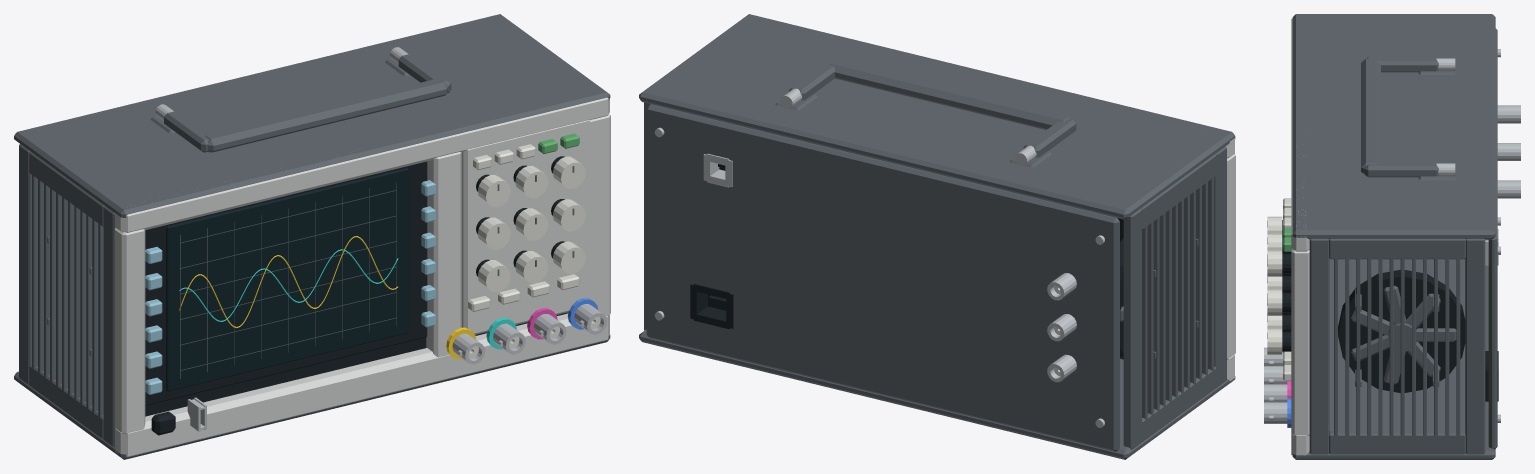
File: A-NEW-20261026-OSCILLOSCOPE-001_LOD2_R5.glb
3 views of the same model, side by side, from view 1: azimuth 30°, elevation 25°; view 2: azimuth 150°, elevation 25°; view 3: azimuth 270°, elevation 25° (orthographic). The views are drawn at different scales.
Parts seen in each view (by area): view 1: case roof, screen glass surface, front bottom rail, control face, front top rail, screen well floor, front vertical bezel, front vertical bezel.002, front vertical bezel.001, folded handle grip, lower bezel cavity closure, side grille end frame.001 (+32 smaller); view 2: rear panel, case roof, side grille end frame.001, folded handle grip, base floor, side grille end frame, front vertical bezel, side grille edge frame.001, side grille edge frame, side ventilation rib.010, side ventilation rib.008, side ventilation rib (+12 smaller); view 3: case roof, base floor, fan shroud backing.001, side grille end frame.003, side grille end frame.002, front vertical bezel.001, side grille edge frame.002, side grille edge frame.003, rear panel, folded handle grip, folded handle arm.001, folded handle arm (+33 smaller).
Part boxes in pixels (left/top/right/bottom): case roof: left=14, top=14, right=610, bottom=217; screen glass surface: left=166, top=168, right=408, bottom=391; front bottom rail: left=115, top=313, right=609, bottom=457; control face: left=461, top=120, right=590, bottom=334; front top rail: left=115, top=97, right=609, bottom=232; screen well floor: left=145, top=161, right=427, bottom=405; front vertical bezel: left=114, top=228, right=145, bottom=433; front vertical bezel.002: left=426, top=152, right=461, bottom=357; front vertical bezel.001: left=567, top=114, right=610, bottom=316; folded handle grip: left=205, top=78, right=448, bottom=152; lower bezel cavity closure: left=145, top=312, right=567, bottom=416; side grille end frame.001: left=19, top=144, right=31, bottom=384; rear panel: left=646, top=104, right=1119, bottom=451; case roof: left=639, top=14, right=1235, bottom=219; side grille end frame.001: left=1123, top=208, right=1141, bottom=449; folded handle grip: left=830, top=60, right=1070, bottom=129; base floor: left=639, top=329, right=1235, bottom=459; side grille end frame: left=1214, top=146, right=1226, bottom=387; front vertical bezel: left=1227, top=154, right=1235, bottom=359; side grille edge frame.001: left=1141, top=154, right=1216, bottom=229; side grille edge frame: left=1142, top=366, right=1216, bottom=441; side ventilation rib.010: left=1147, top=219, right=1153, bottom=417; side ventilation rib.008: left=1159, top=211, right=1165, bottom=408; side ventilation rib: left=1208, top=177, right=1214, bottom=370; case roof: left=1292, top=14, right=1495, bottom=239; base floor: left=1292, top=259, right=1495, bottom=459; fan shroud backing.001: left=1338, top=269, right=1465, bottom=392; side grille end frame.003: left=1465, top=238, right=1485, bottom=454; side grille end frame.002: left=1309, top=238, right=1329, bottom=454; front vertical bezel.001: left=1291, top=249, right=1309, bottom=435; side grille edge frame.002: left=1329, top=430, right=1465, bottom=454; side grille edge frame.003: left=1329, top=238, right=1465, bottom=259; rear panel: left=1488, top=28, right=1497, bottom=449; folded handle grip: left=1361, top=58, right=1380, bottom=174; folded handle arm.001: left=1365, top=162, right=1438, bottom=177; folded handle arm: left=1367, top=56, right=1438, bottom=72.
Size of the model in its own units: 0.3131 by 0.1685 by 0.155.
